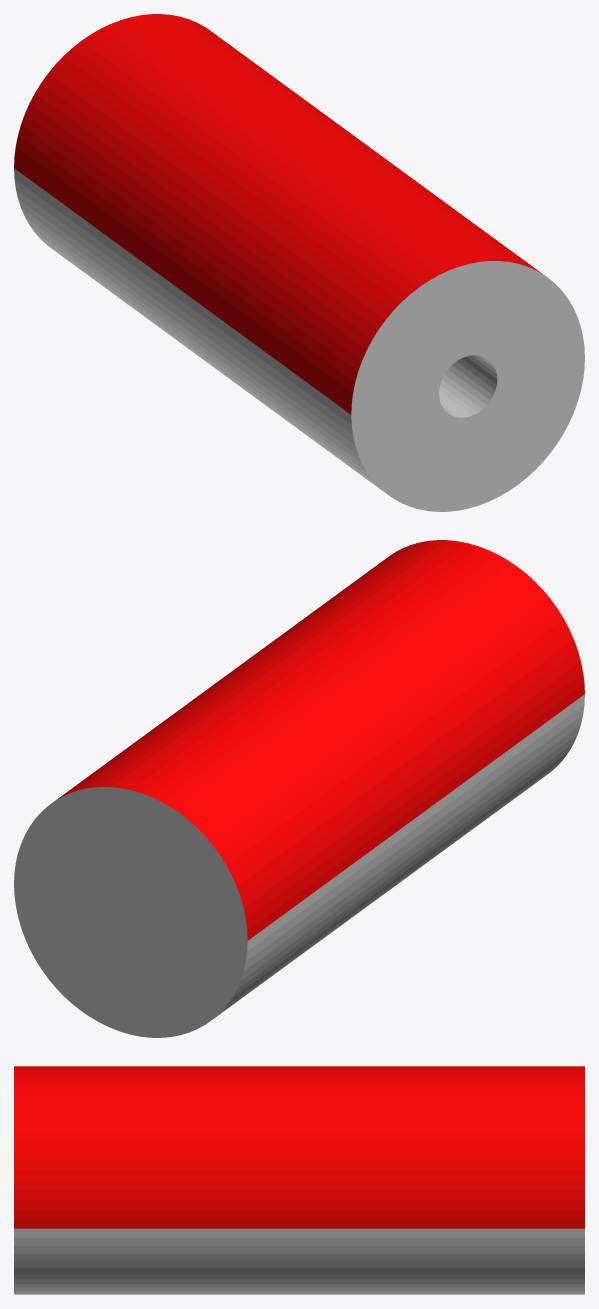
Rendered from BLIND_HOLE_STEP_2.obj.
3 renders of one model, top to bottom at view 1: azimuth 30°, elevation 25°; view 2: azimuth 150°, elevation 25°; view 3: azimuth 270°, elevation 25°, orthographic. The views are drawn at different scales.
Visible parts, largest first — view 1: Object1; view 2: Object1; view 3: Object1.
Part boxes in pixels (<box>): Object1: <box>14,14,584,511</box>; Object1: <box>14,540,584,1037</box>; Object1: <box>14,1066,584,1294</box>.
Bounding box in the file's own units: 100 × 100 × 250.
